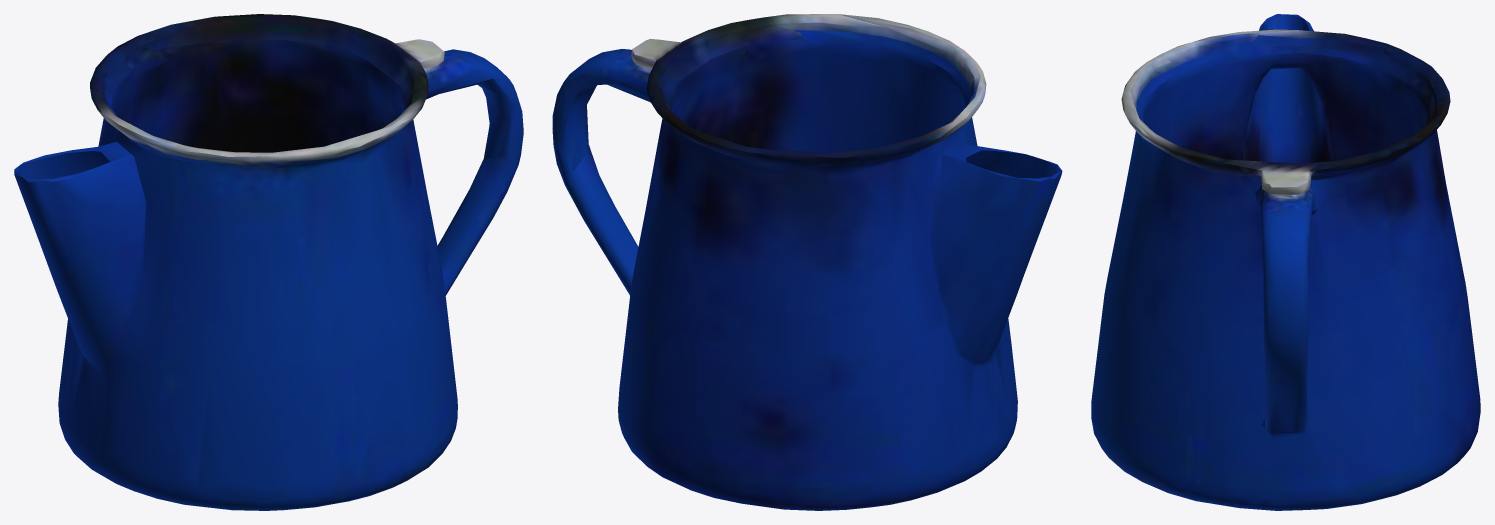
The model's file is kettle.glb.
3 views of the same model, side by side, from view 1: azimuth 30°, elevation 25°; view 2: azimuth 150°, elevation 25°; view 3: azimuth 270°, elevation 25° (orthographic). The views are drawn at different scales.
Visible parts, largest first — view 1: kettle; view 2: kettle; view 3: kettle.
Part boxes in pixels (<box>): kettle: <box>14,14,523,510</box>; kettle: <box>552,14,1062,510</box>; kettle: <box>1091,14,1480,510</box>.
Size of the model in its own units: 0.3578 by 0.24 by 0.2487.
1 material, 1 textured.
